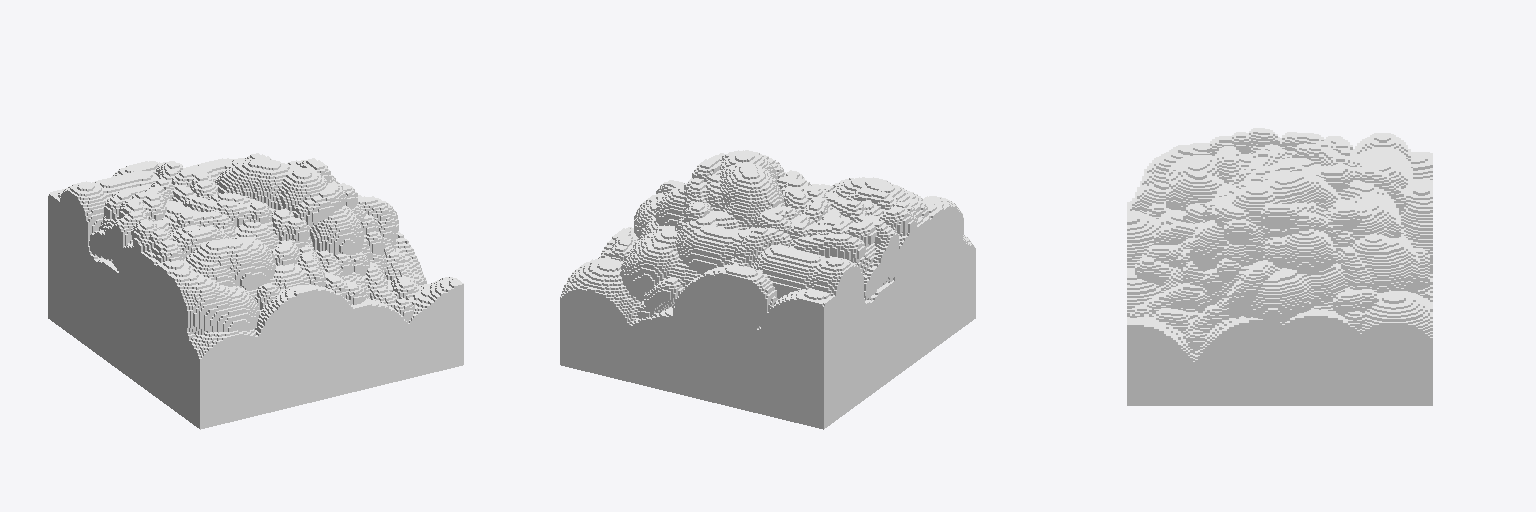
Rendered from grass-v01.obj.
3 views of the same model, side by side, from view 1: azimuth 30°, elevation 25°; view 2: azimuth 150°, elevation 25°; view 3: azimuth 270°, elevation 25° (orthographic).
Visible parts, largest first — view 1: object 1; view 2: object 1; view 3: object 1.
Part boxes in pixels (x1,y1,x2,y2): object 1: (48, 153, 463, 429); object 1: (560, 150, 975, 429); object 1: (1127, 128, 1432, 405).
Size of the model in its own units: 12.6 by 7.8 by 12.6.